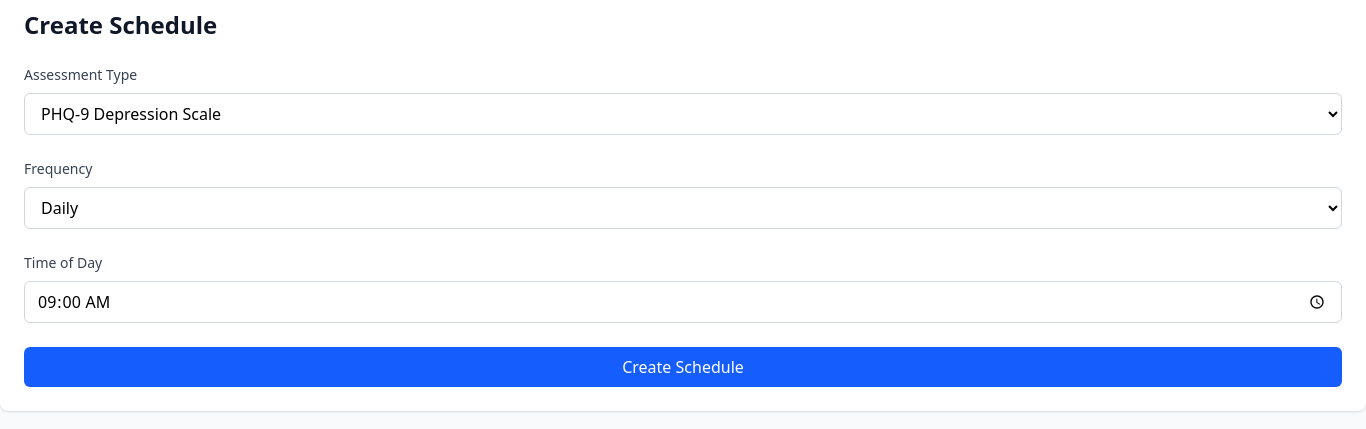
Test: ScheduleForm › should disable submit button while loading
expect the time field labelled "Time of Day" is shown: met, box [24,281,1342,323]
Click the button "Create Schedule": click(683, 367) [24,347,1342,387]
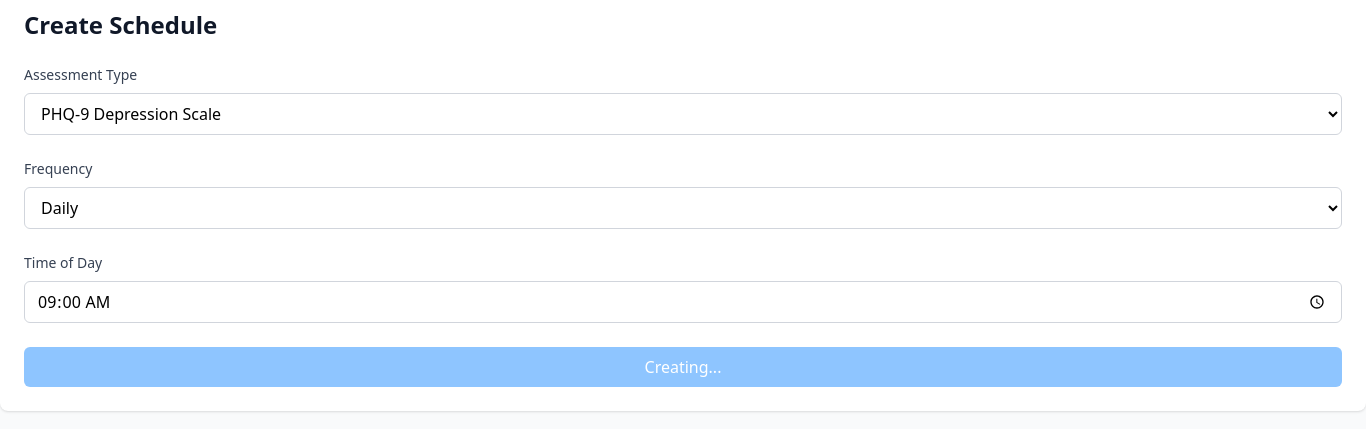
expect the button "Creating..." is disabled: met, box [24,347,1342,387]
